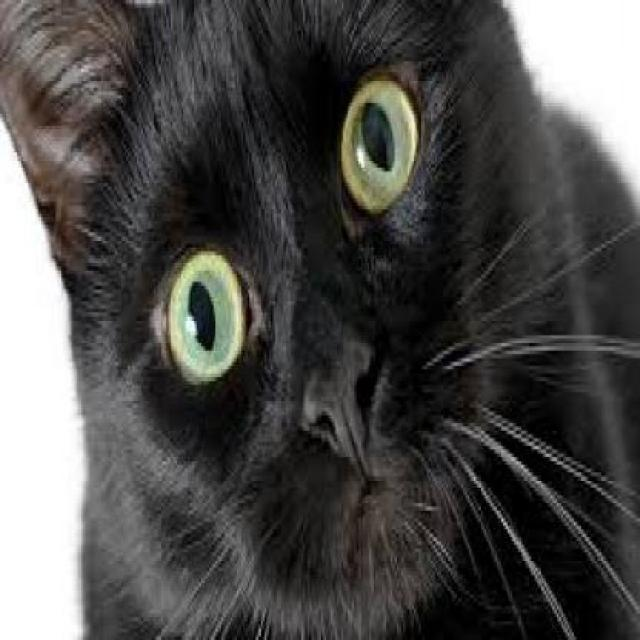animals: (6, 4, 632, 636)
